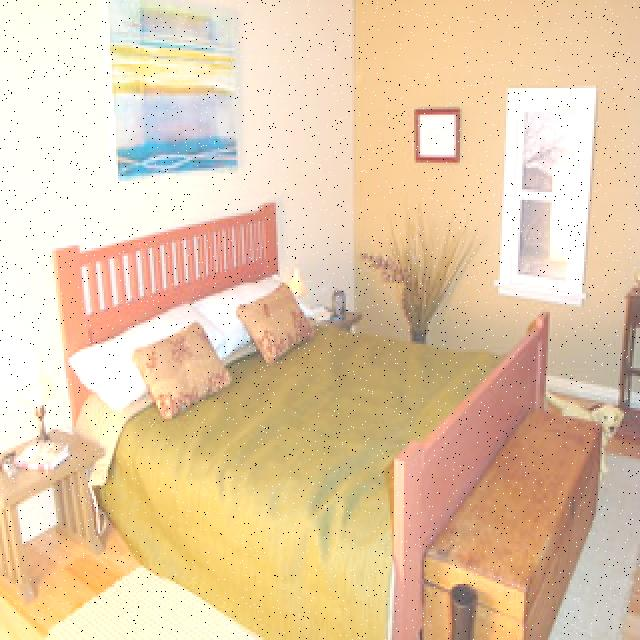bed: (57, 213, 505, 611)
